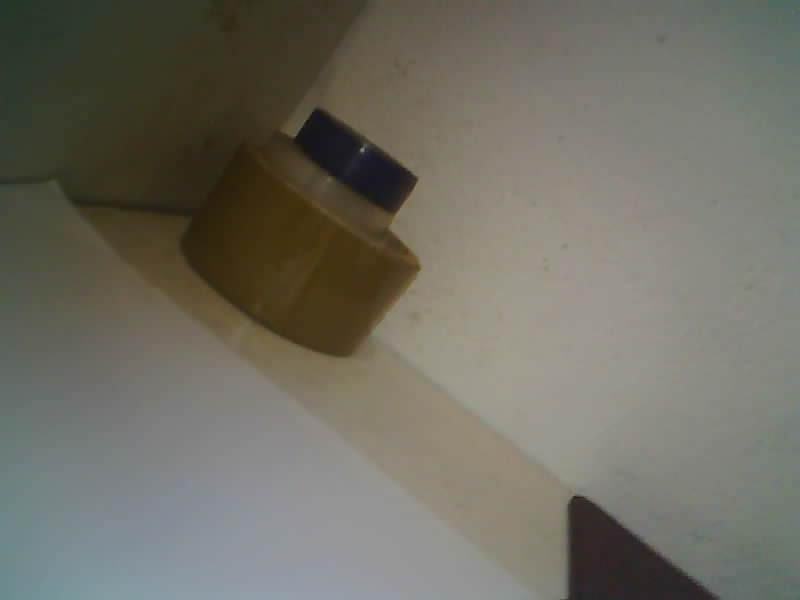biodegradable: (180, 109, 419, 356)
